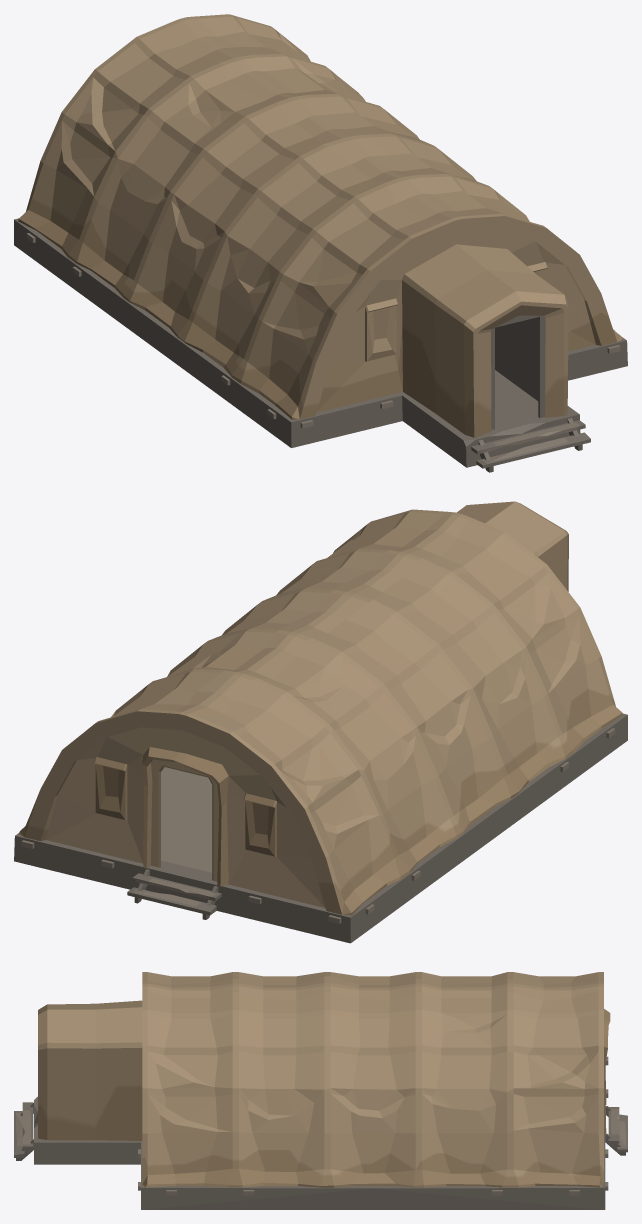
Rendered from SM_Bld_Tent_Entrance_01.fbx.
The picture shows the model from 3 angles, top to bottom: view 1: azimuth 30°, elevation 25°; view 2: azimuth 150°, elevation 25°; view 3: azimuth 270°, elevation 25°; orthographic projection. The views are drawn at different scales.
Parts seen in each view (by area): view 1: SM_Bld_Tent_Entrance_01; view 2: SM_Bld_Tent_Entrance_01; view 3: SM_Bld_Tent_Entrance_01.
Boxes of the visible parts, x1,y1,x2,y2 form: SM_Bld_Tent_Entrance_01: (14, 14, 627, 472); SM_Bld_Tent_Entrance_01: (14, 501, 627, 943); SM_Bld_Tent_Entrance_01: (14, 972, 627, 1209).
Bounding box in the file's own units: 780 × 407 × 1449.
